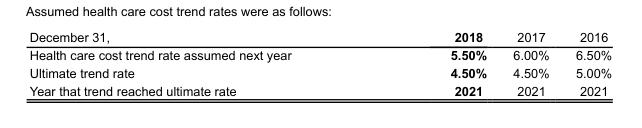table: (28, 29, 611, 97)
table column: (28, 29, 370, 97), (370, 29, 499, 97), (499, 29, 561, 97), (561, 29, 611, 97)
table column header: (28, 29, 611, 45)
table row: (28, 45, 611, 63), (28, 63, 611, 81), (28, 29, 611, 45), (28, 81, 611, 97)
